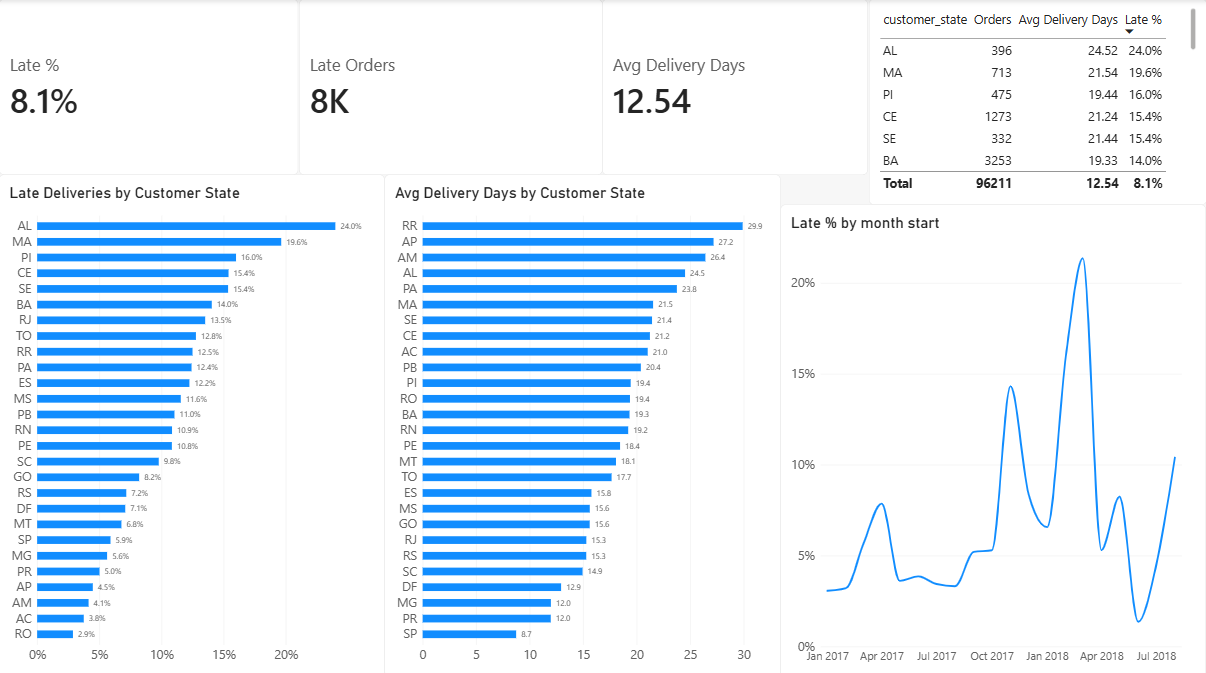

What the dashboard file says about the page in this screenshot:
{"tool":"powerbi","page":{"name":"Delivery Performance","canvas":[1920,1080],"ordinal":1},"visuals":[{"type":"cardVisual","fields":{"Data":["v_fact_order_items.Avg Delivery Days"]},"box":[960,0,423.3,280],"z":0},{"type":"cardVisual","fields":{"Data":["v_fact_order_items.Late Orders"]},"box":[476.7,0,483.3,280],"z":1},{"type":"cardVisual","fields":{"Data":["v_fact_order_items.Late %"]},"box":[0,0,476.7,280],"z":2},{"type":"clusteredBarChart","title":"Late Deliveries by Customer State","fields":{"Category":["v_dim_customer.customer_state"],"Y":["v_fact_order_items.Late %"]},"box":[0,280,613.3,800],"z":3},{"type":"clusteredBarChart","title":"Avg Delivery Days by Customer State","fields":{"Category":["v_dim_customer.customer_state"],"Y":["v_fact_order_items.Avg Delivery Days"]},"box":[613.3,280,630,800],"z":4},{"type":"lineChart","title":"Late % by month start","fields":{"Category":["v_dim_date.month_start"],"Y":["v_fact_order_items.Late %"]},"box":[1243.3,326.7,676.7,753.3],"z":5},{"type":"tableEx","fields":{"Values":["v_dim_customer.customer_state","v_fact_order_items.Orders","v_fact_order_items.Avg Delivery Days","v_fact_order_items.Late %"]},"box":[1383.3,0,537.5,327.5],"z":6}]}

Visuals, with their boxes in screenshot pixels (x1, y1, x2, y2), scaled from the page's 1920x1080 canvas onto the 1206x673 screenshot:
cardVisual - v_fact_order_items.Avg Delivery Days: {"left": 603, "top": 0, "right": 869, "bottom": 174}
cardVisual - v_fact_order_items.Late Orders: {"left": 299, "top": 0, "right": 603, "bottom": 174}
cardVisual - v_fact_order_items.Late %: {"left": 0, "top": 0, "right": 299, "bottom": 174}
"Late Deliveries by Customer State" clusteredBarChart: {"left": 0, "top": 174, "right": 385, "bottom": 672}
"Avg Delivery Days by Customer State" clusteredBarChart: {"left": 385, "top": 174, "right": 781, "bottom": 672}
"Late % by month start" lineChart: {"left": 781, "top": 204, "right": 1205, "bottom": 672}
tableEx - v_dim_customer.customer_state x v_fact_order_items.Orders: {"left": 869, "top": 0, "right": 1205, "bottom": 204}
